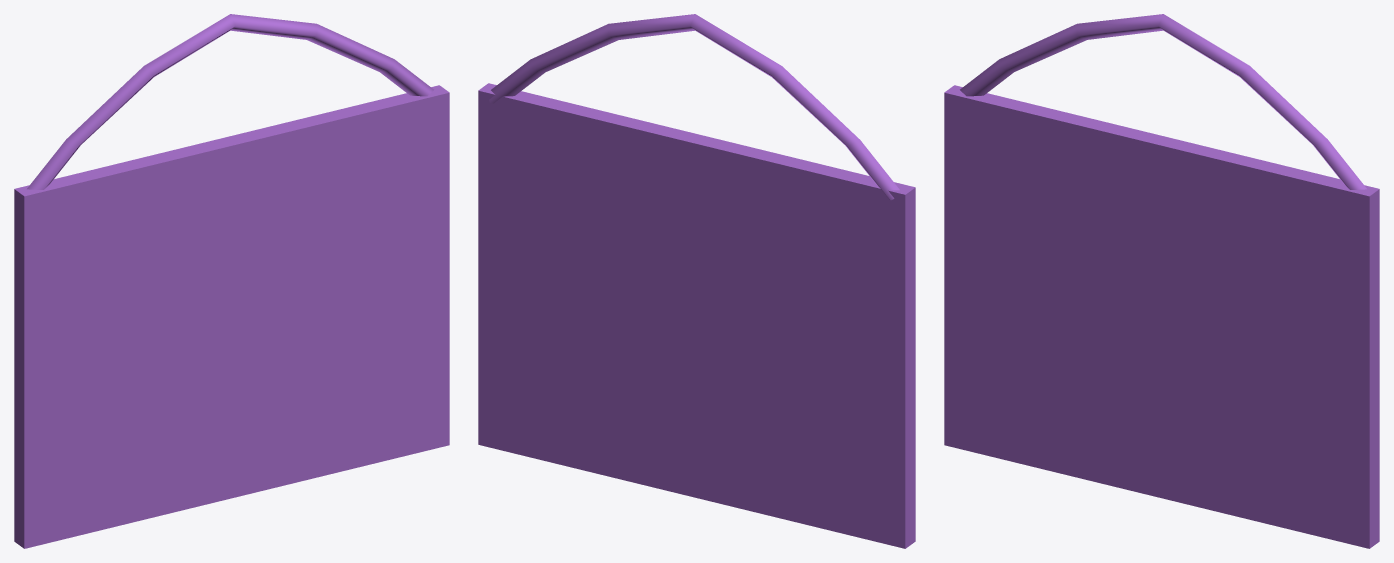
File: cartelDoor.fbx
The picture shows the model from 3 angles, left to right: view 1: azimuth 30°, elevation 25°; view 2: azimuth 150°, elevation 25°; view 3: azimuth 330°, elevation 25°; orthographic projection.
Parts seen in each view (by area): view 1: cuadroPuerta; view 2: cuadroPuerta; view 3: cuadroPuerta.
Part boxes in pixels (x1,y1,x2,y2): cuadroPuerta: [14, 14, 449, 548]; cuadroPuerta: [478, 14, 915, 548]; cuadroPuerta: [944, 14, 1379, 548].
Bounding box in the file's own units: 0.5578 × 0.5993 × 0.0266.
